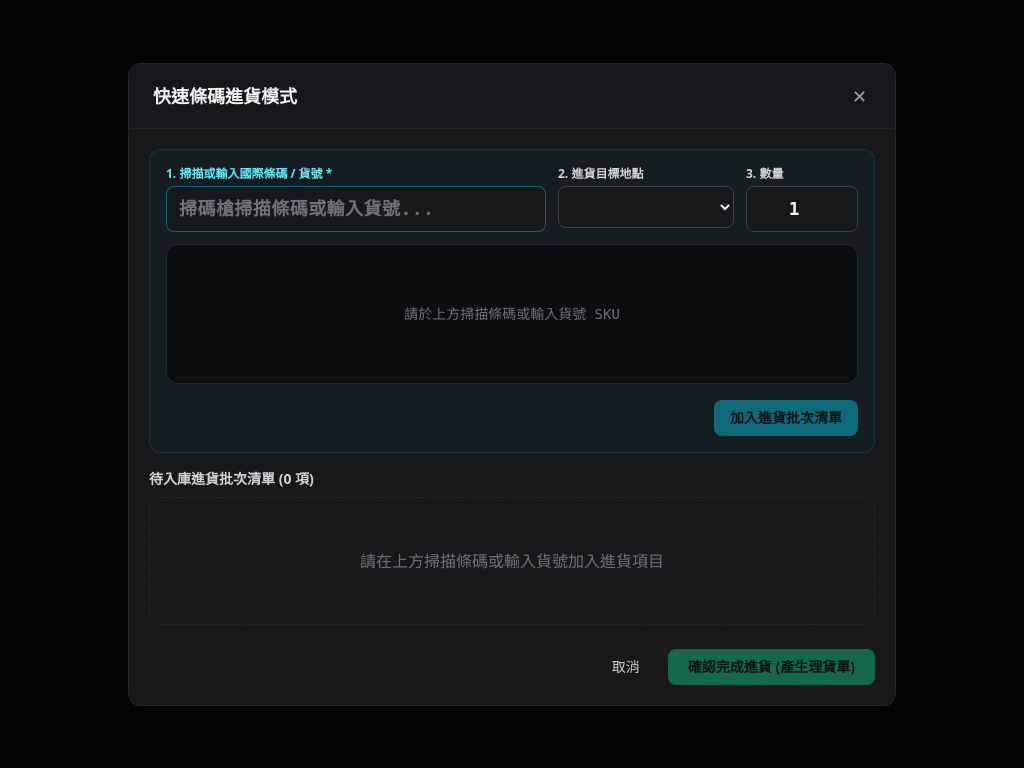
Test case: RestockModal 商品搜尋 › searches one server page at a time and loads more on demand
This screenshot has width=1024, height=768.
Type "QA" into the field with placeholder "掃碼槍掃描條碼或輸入貨號...". click: (356, 208)
box: [166,186,546,232]
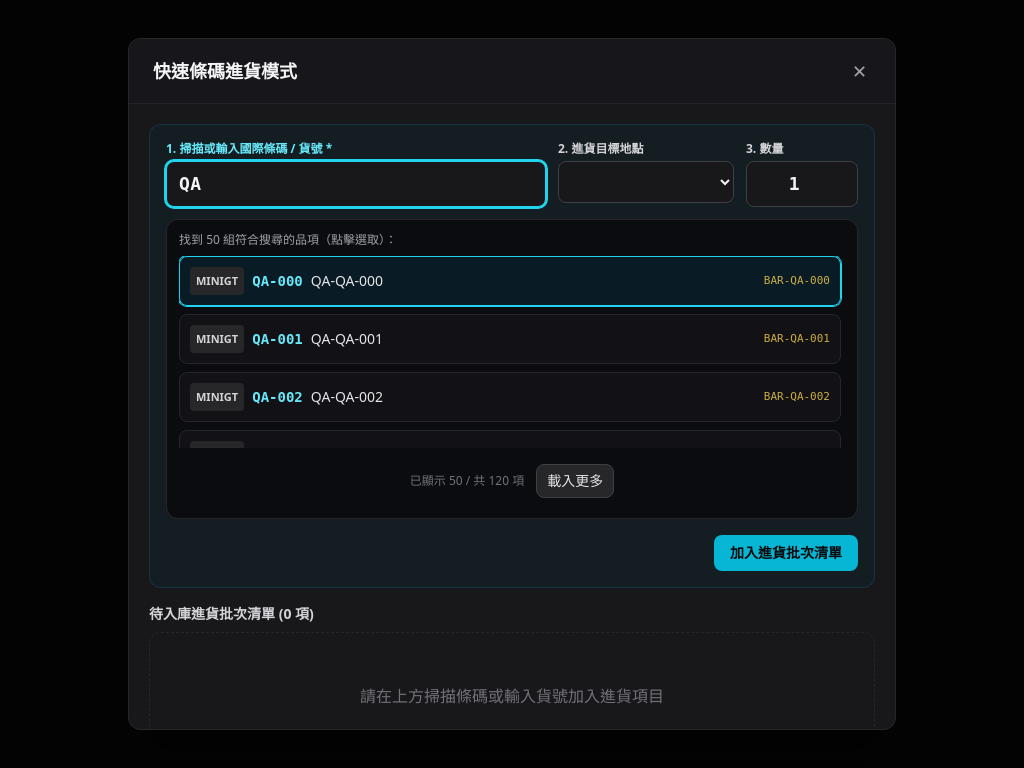
Expected: the text "已顯示 50 / 共 120 項" is shown, [410,473,524,489]
Click the button "載入更多". click: (575, 481)
box: [536,464,614,498]
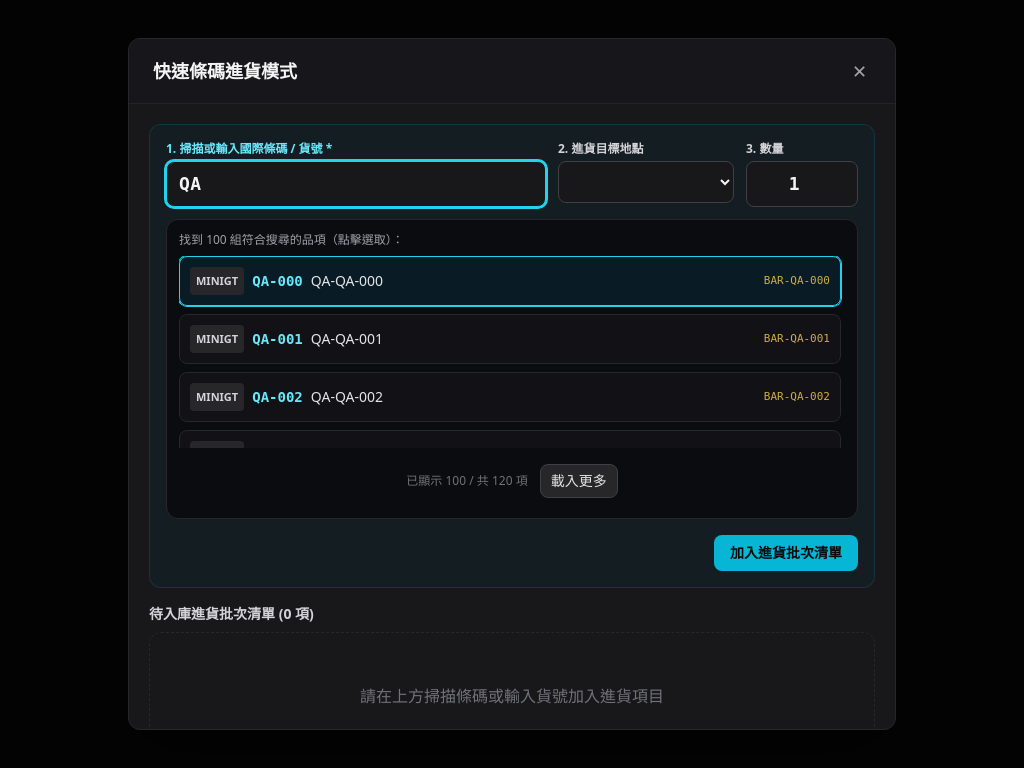
Expected: the text "已顯示 100 / 共 120 項" is shown, [406,473,528,489]
